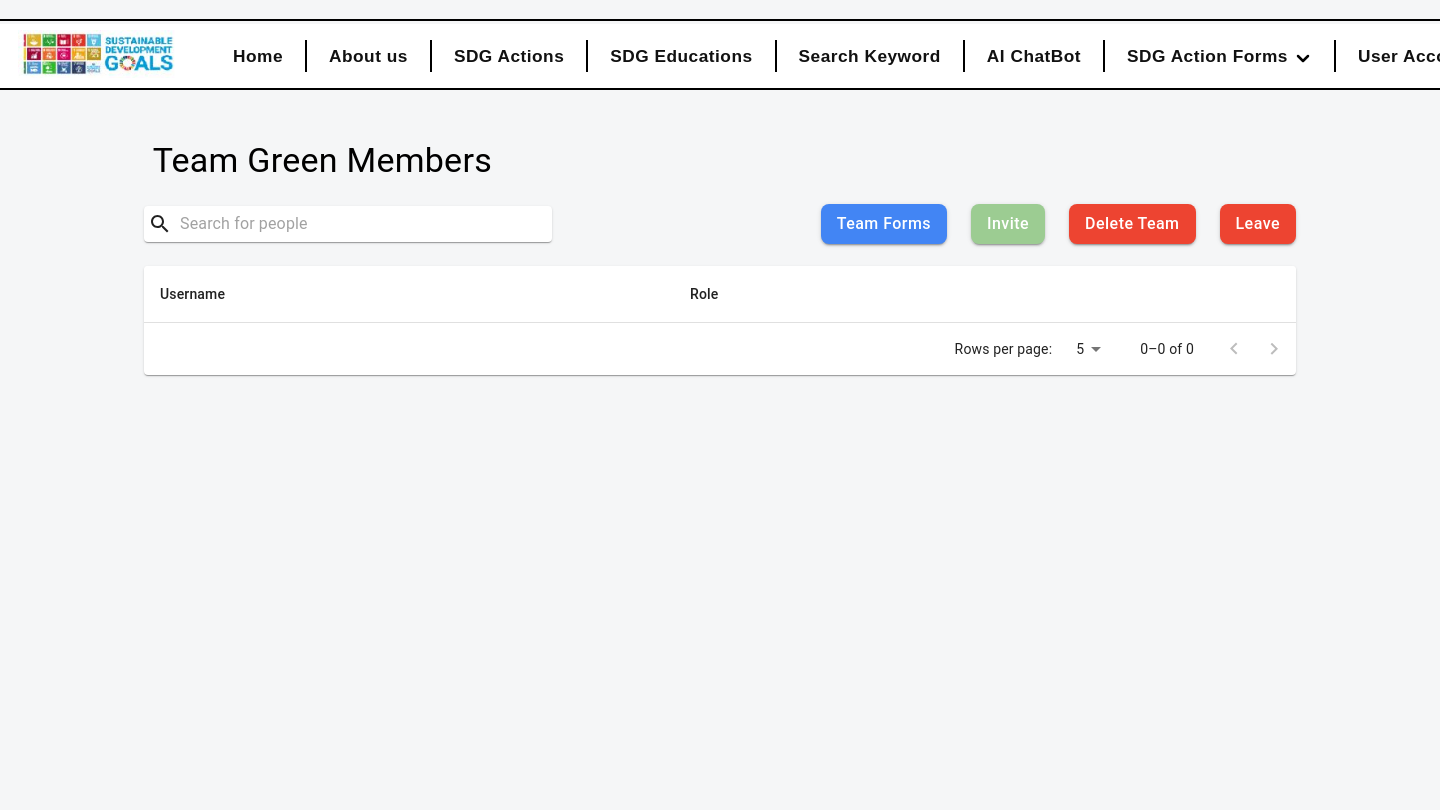
Test: Team › should be able to open delete modal
Click the button "Delete Team" at (1132, 224), box [1069,204,1196,244]
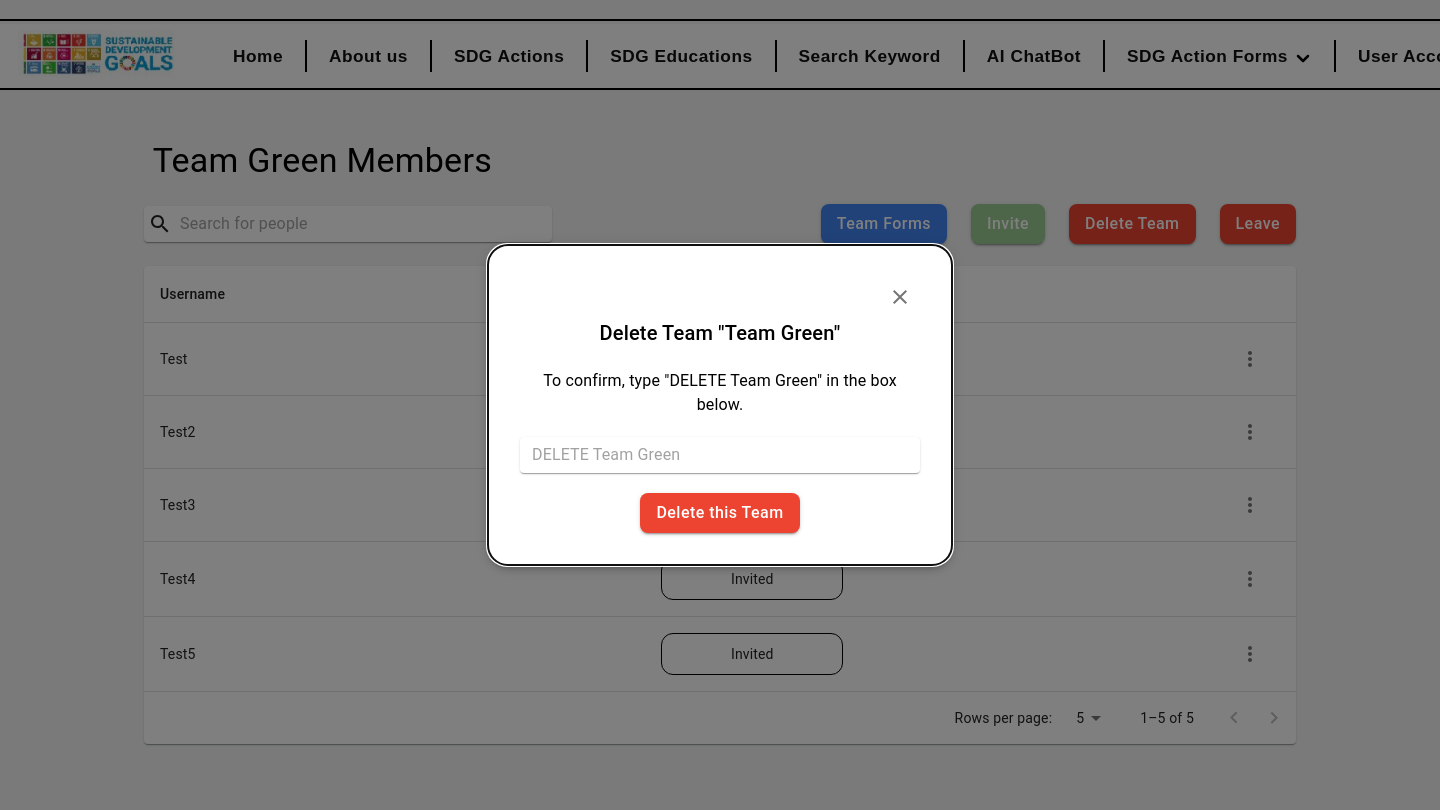
Expected: the heading "Delete Team \"Team Green\"" is shown, [600,321,840,345]
Expected: the text "To confirm, type \"DELETE Team Green\" in the box below." is shown, [520,369,920,417]
Expected: the field with placeholder "DELETE Team Green" is shown, [532,439,916,471]
